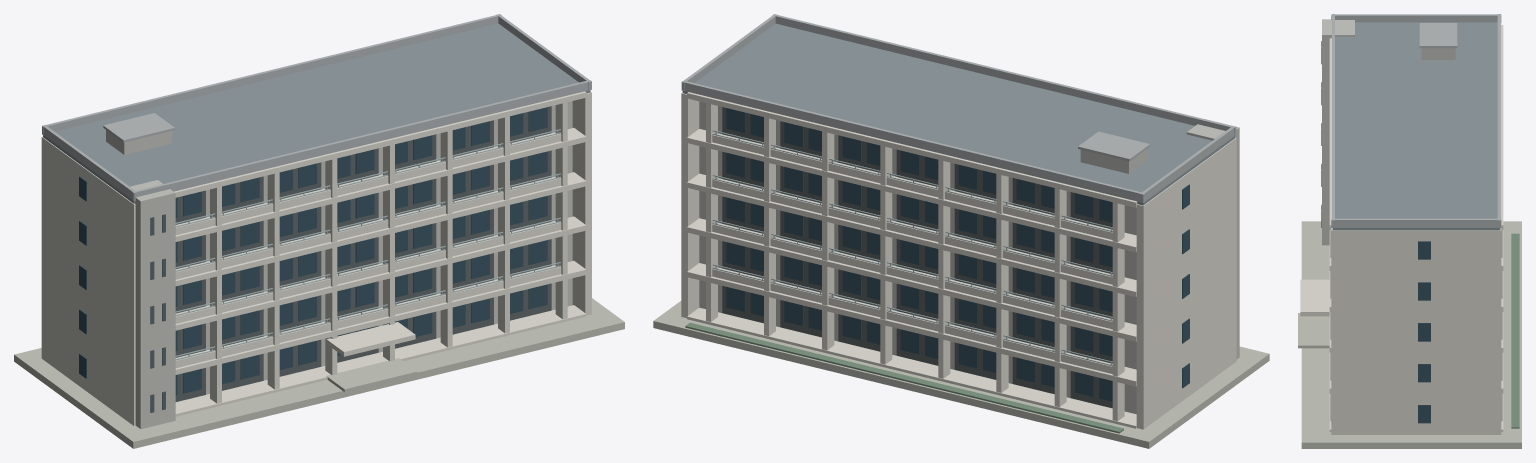
The picture shows the model from 3 angles, left to right: view 1: azimuth 30°, elevation 25°; view 2: azimuth 150°, elevation 25°; view 3: azimuth 270°, elevation 25°; orthographic projection. The views are drawn at different scales.
Bounding box in the file's own units: 35.4 × 17.1 × 15.13.
